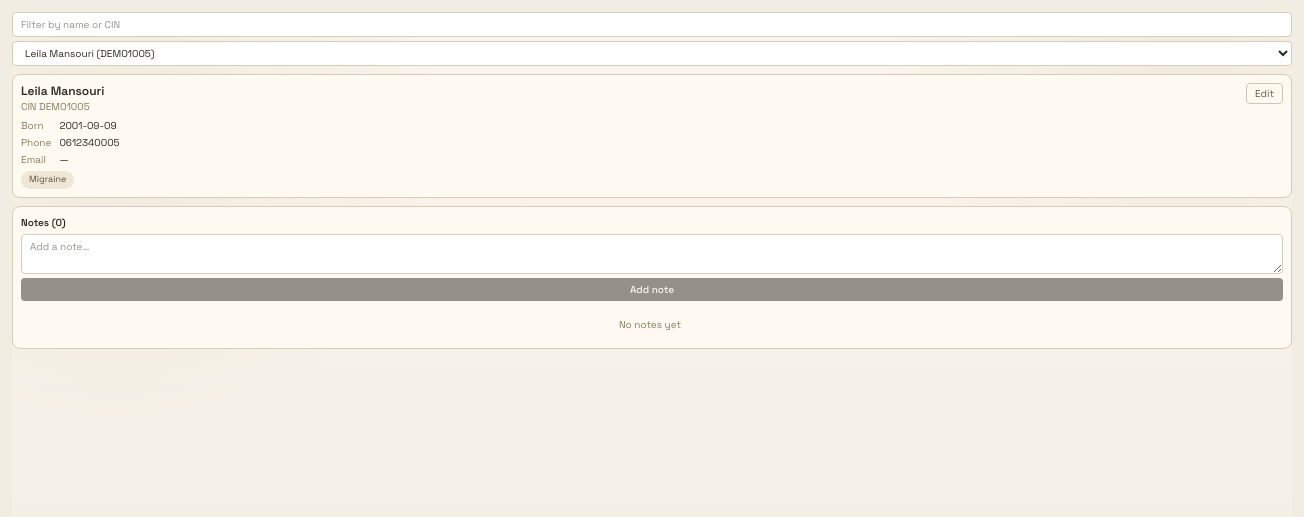
Test case: PatientPanel › sends only changed fields, with pathologies as additions and removals
Expected: the text "CIN DEMO1005" is shown, [21,100,90,113]
Click the button "Edit". click: click(1264, 94)
box: [1246,83,1283,104]
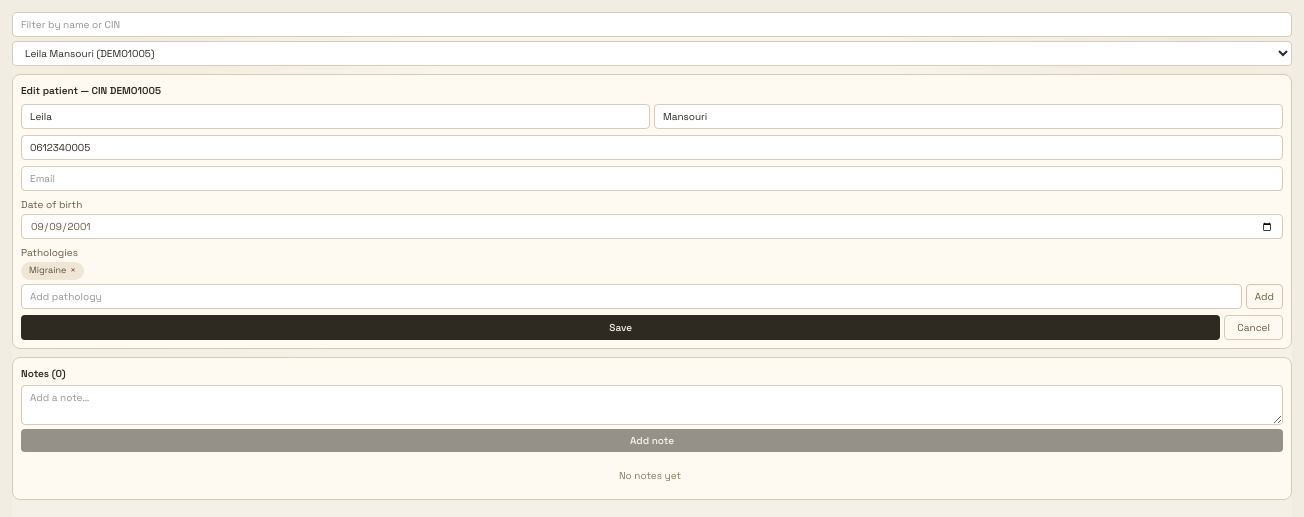
Replace the text in the 3rd field with placeholder "Phone" with "0699999999". click: (652, 148)
box: [21,135,1283,160]
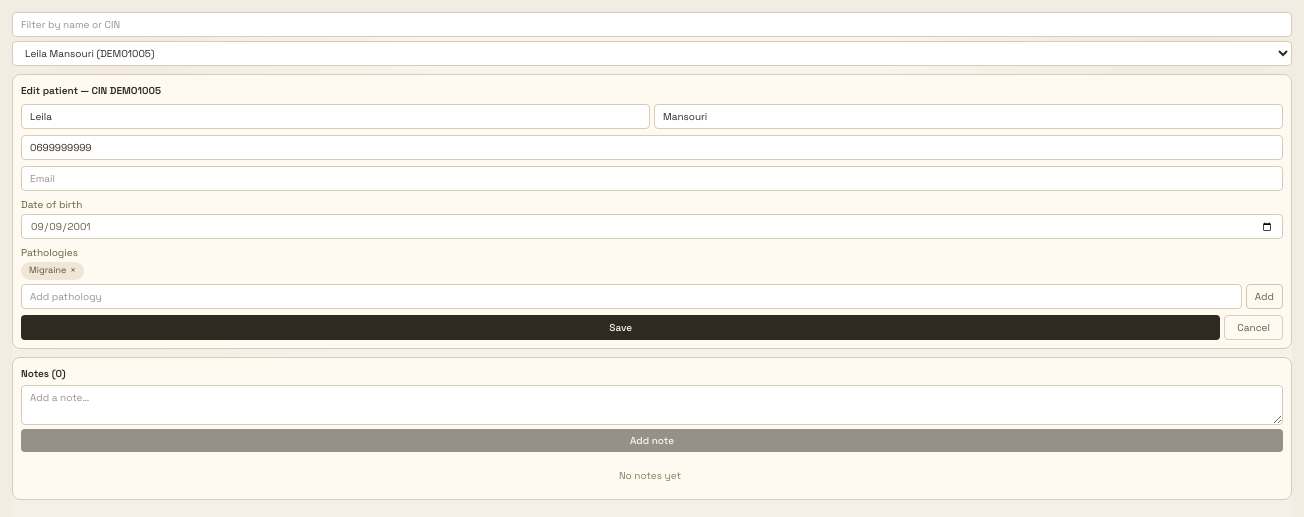
Click the button named "Remove Migraine". click: click(73, 271)
box: [70,264,76,278]
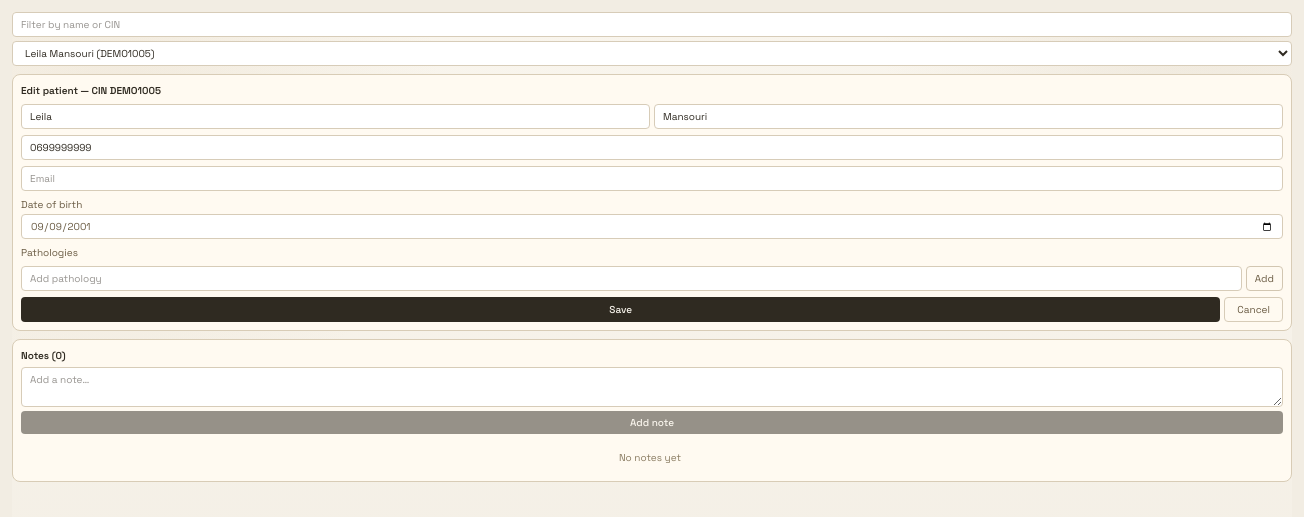
Type "Asthma" into the field with placeholder "Add pathology". click: (631, 278)
box: [21,266,1242,291]
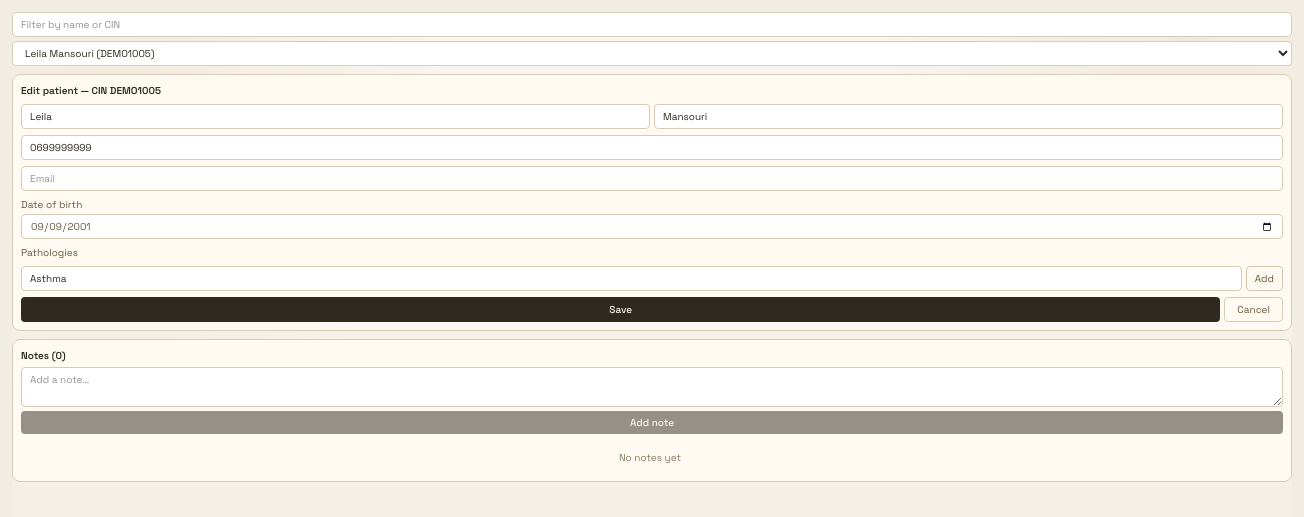
Click the button "Add". click: click(1264, 278)
box: [1246,266,1283,291]
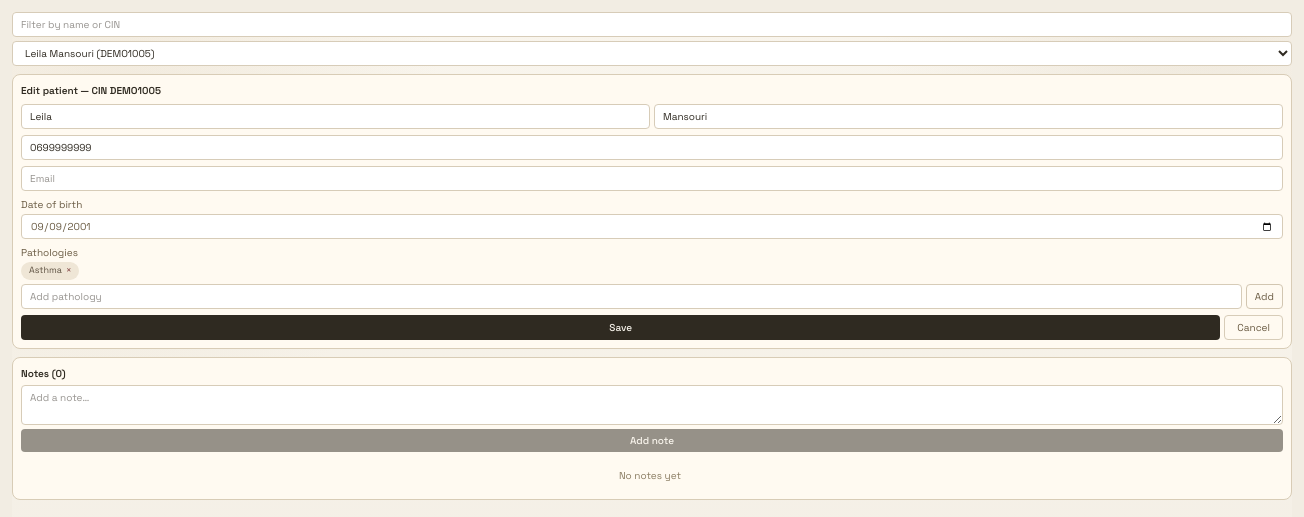
Click the button "Save". click: click(621, 327)
box: [21,314,1220,340]
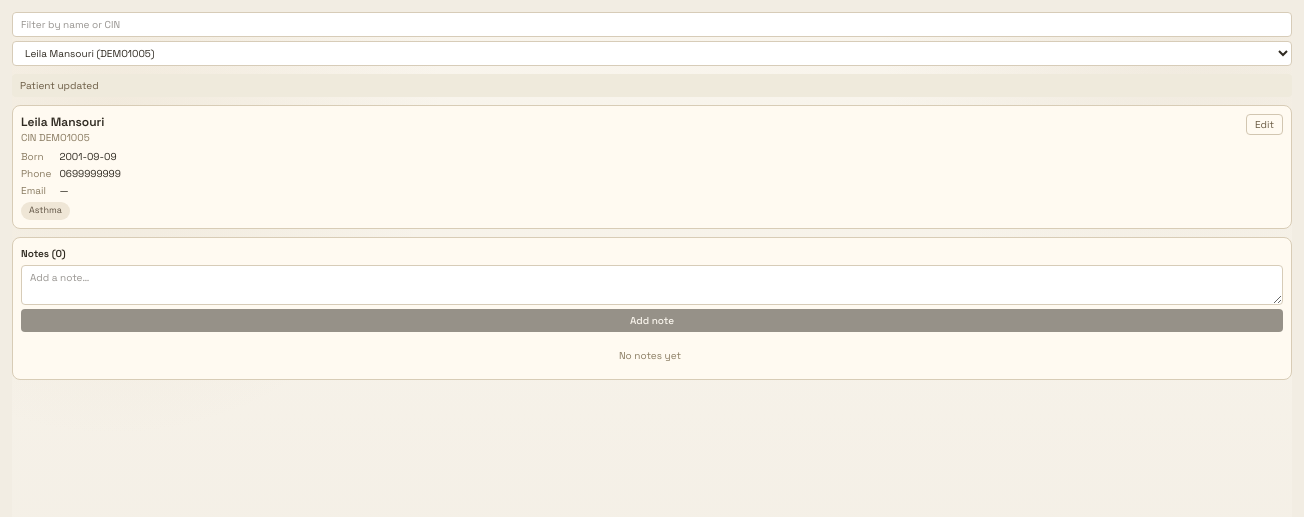
Expected: the text "Patient updated" is shown, [12,74,1292,97]
